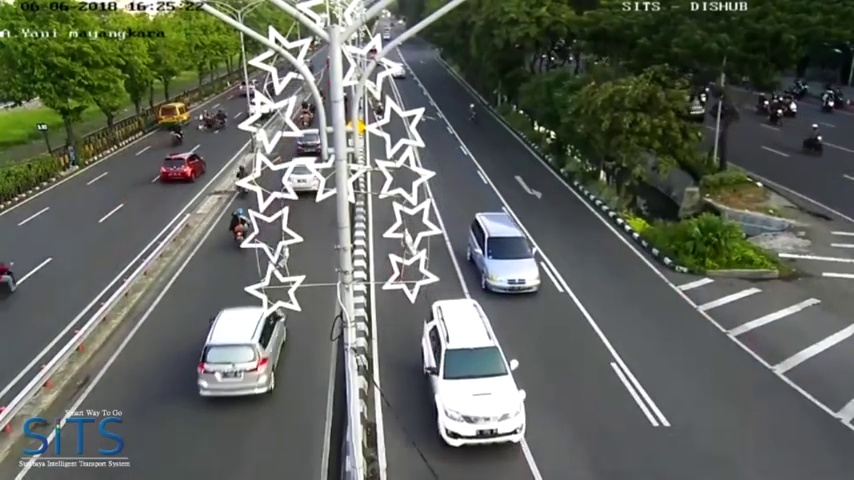car: (423, 298, 525, 446), (200, 303, 285, 400), (467, 210, 541, 299), (161, 151, 206, 184), (157, 100, 189, 130), (296, 125, 323, 157)
motorbike: (230, 208, 251, 248), (803, 124, 828, 157), (767, 101, 785, 125), (753, 92, 768, 117), (782, 91, 796, 117), (822, 87, 834, 111), (172, 123, 183, 144)
